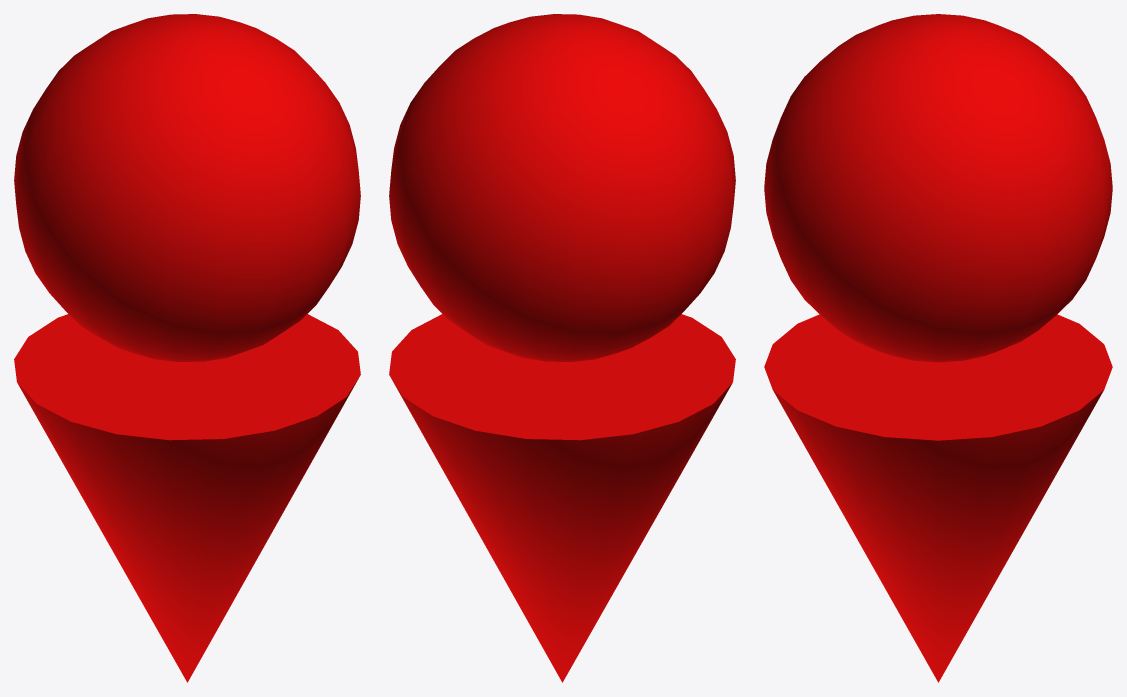
The model's file is POI Model.fbx.
3 views of the same model, side by side, from view 1: azimuth 30°, elevation 25°; view 2: azimuth 150°, elevation 25°; view 3: azimuth 270°, elevation 25° (orthographic).
Parts seen in each view (by area): view 1: pSphere2; view 2: pSphere2; view 3: pSphere2.
Part boxes in pixels (box(x1,y1,x2,y2)): pSphere2: box(14, 14, 360, 682); pSphere2: box(389, 14, 735, 682); pSphere2: box(764, 14, 1112, 682).
Size of the model in its own units: 2 by 4.13 by 2.
